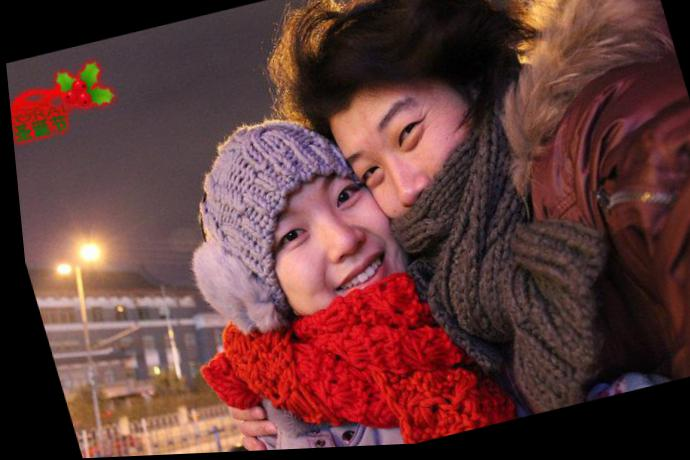NONE: (245, 164, 416, 348)
WRONG: (328, 82, 500, 265)
